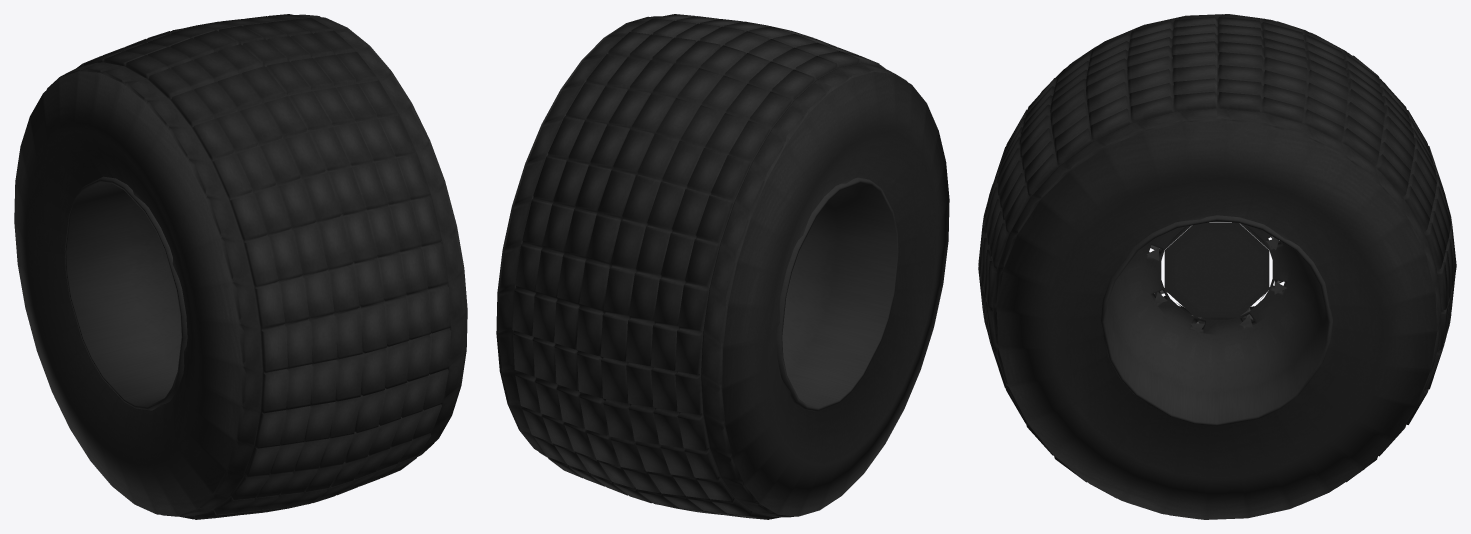
Rendered from TW_wheel_front.obj.
3 renders of one model, left to right at view 1: azimuth 30°, elevation 25°; view 2: azimuth 150°, elevation 25°; view 3: azimuth 270°, elevation 25°, orthographic. The views are drawn at different scales.
Bounding box in the file's own units: 0.5975 × 0.9831 × 0.986.
Materials: 1 (1 with a texture image).
